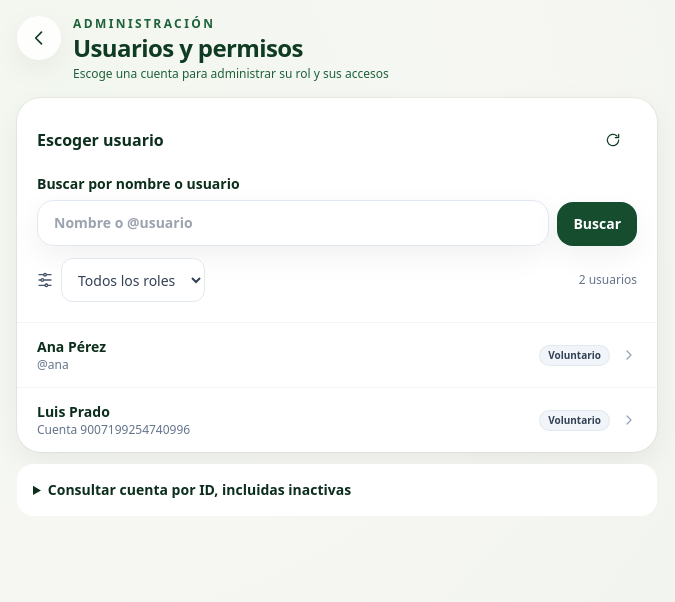
Test: Usuarios y permisos › cambiar usuario cancela la autoridad pendiente y limpia el motivo antes de otra selección
This screenshot has width=675, height=602.
Click the button with aria-label "Seleccionar a Ana Pérez (ana)" at (72, 346), box [17,323,657,387]
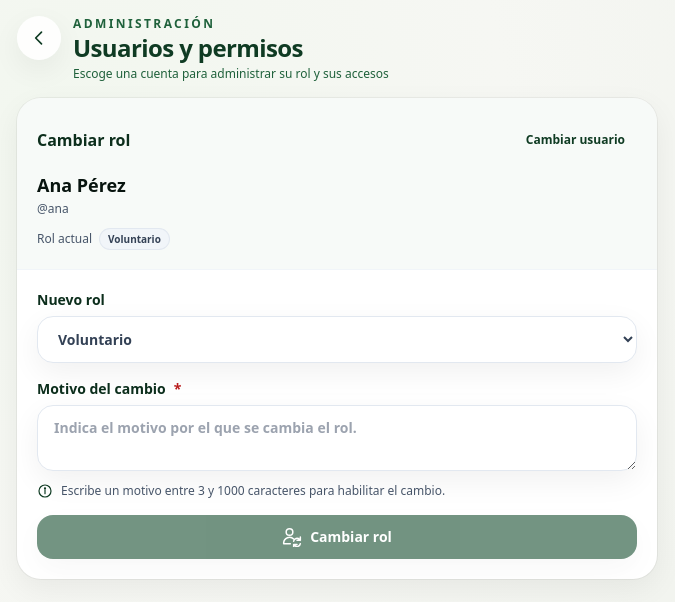
Type "Asignación anterior" into the text box labelled "Motivo del cambio" at (337, 438), box [37,404,637,470]
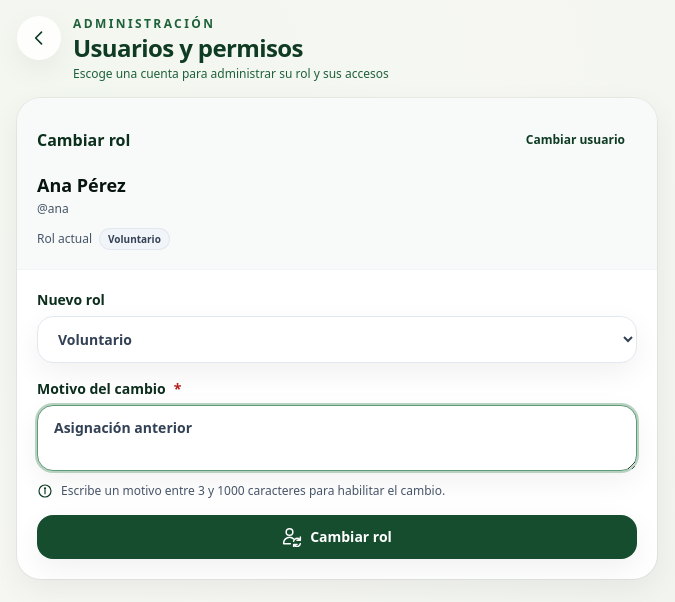
Click the button "Cambiar rol" at (337, 536), box [37,514,637,558]
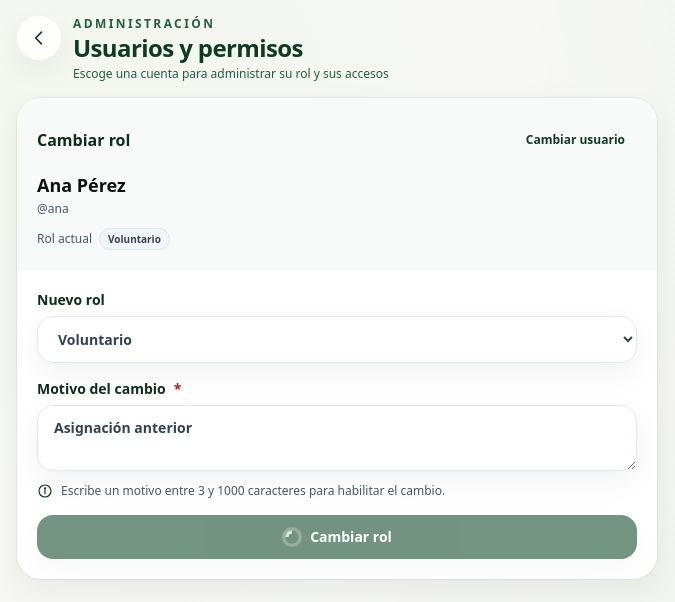
Click the button "Cambiar usuario" at (575, 140), box [514,118,637,162]
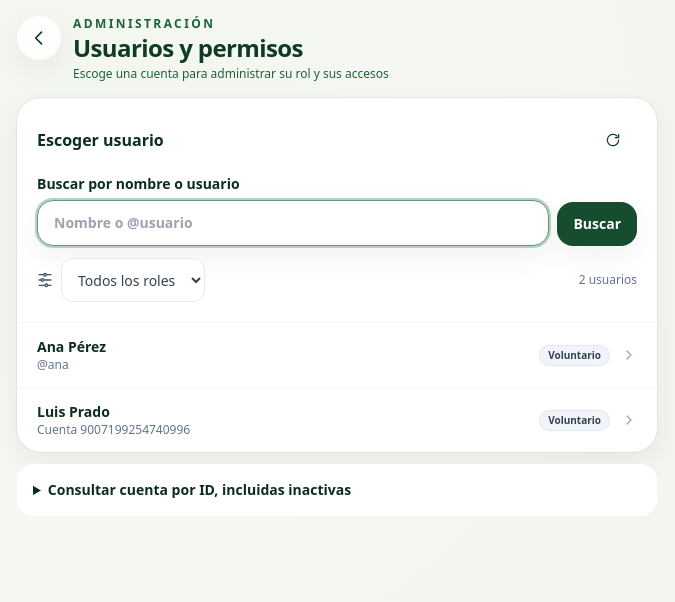
Click the button with aria-label "Seleccionar a Luis Prado" at (73, 412), box [17,388,657,452]
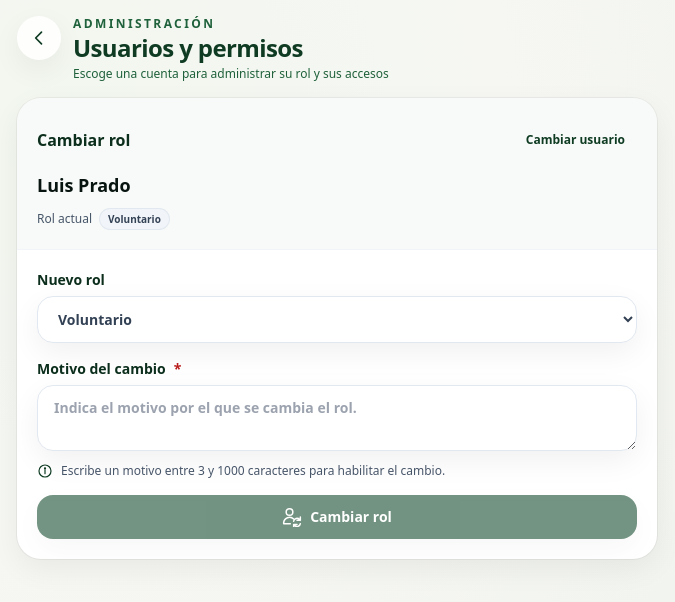
Check: the text "Luis Prado" is shown, box [37,173,131,197]
Check: the text box labelled "Motivo del cambio" is empty, box [37,384,637,450]
